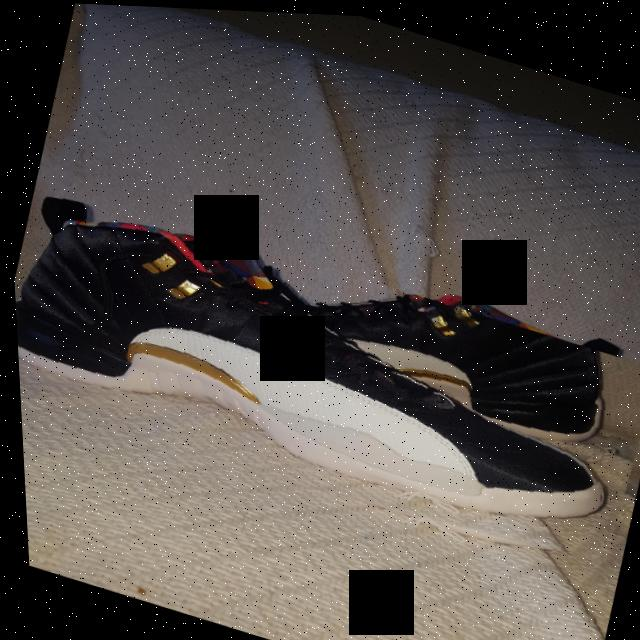shoe: (7, 176, 640, 595), (221, 215, 640, 504)
